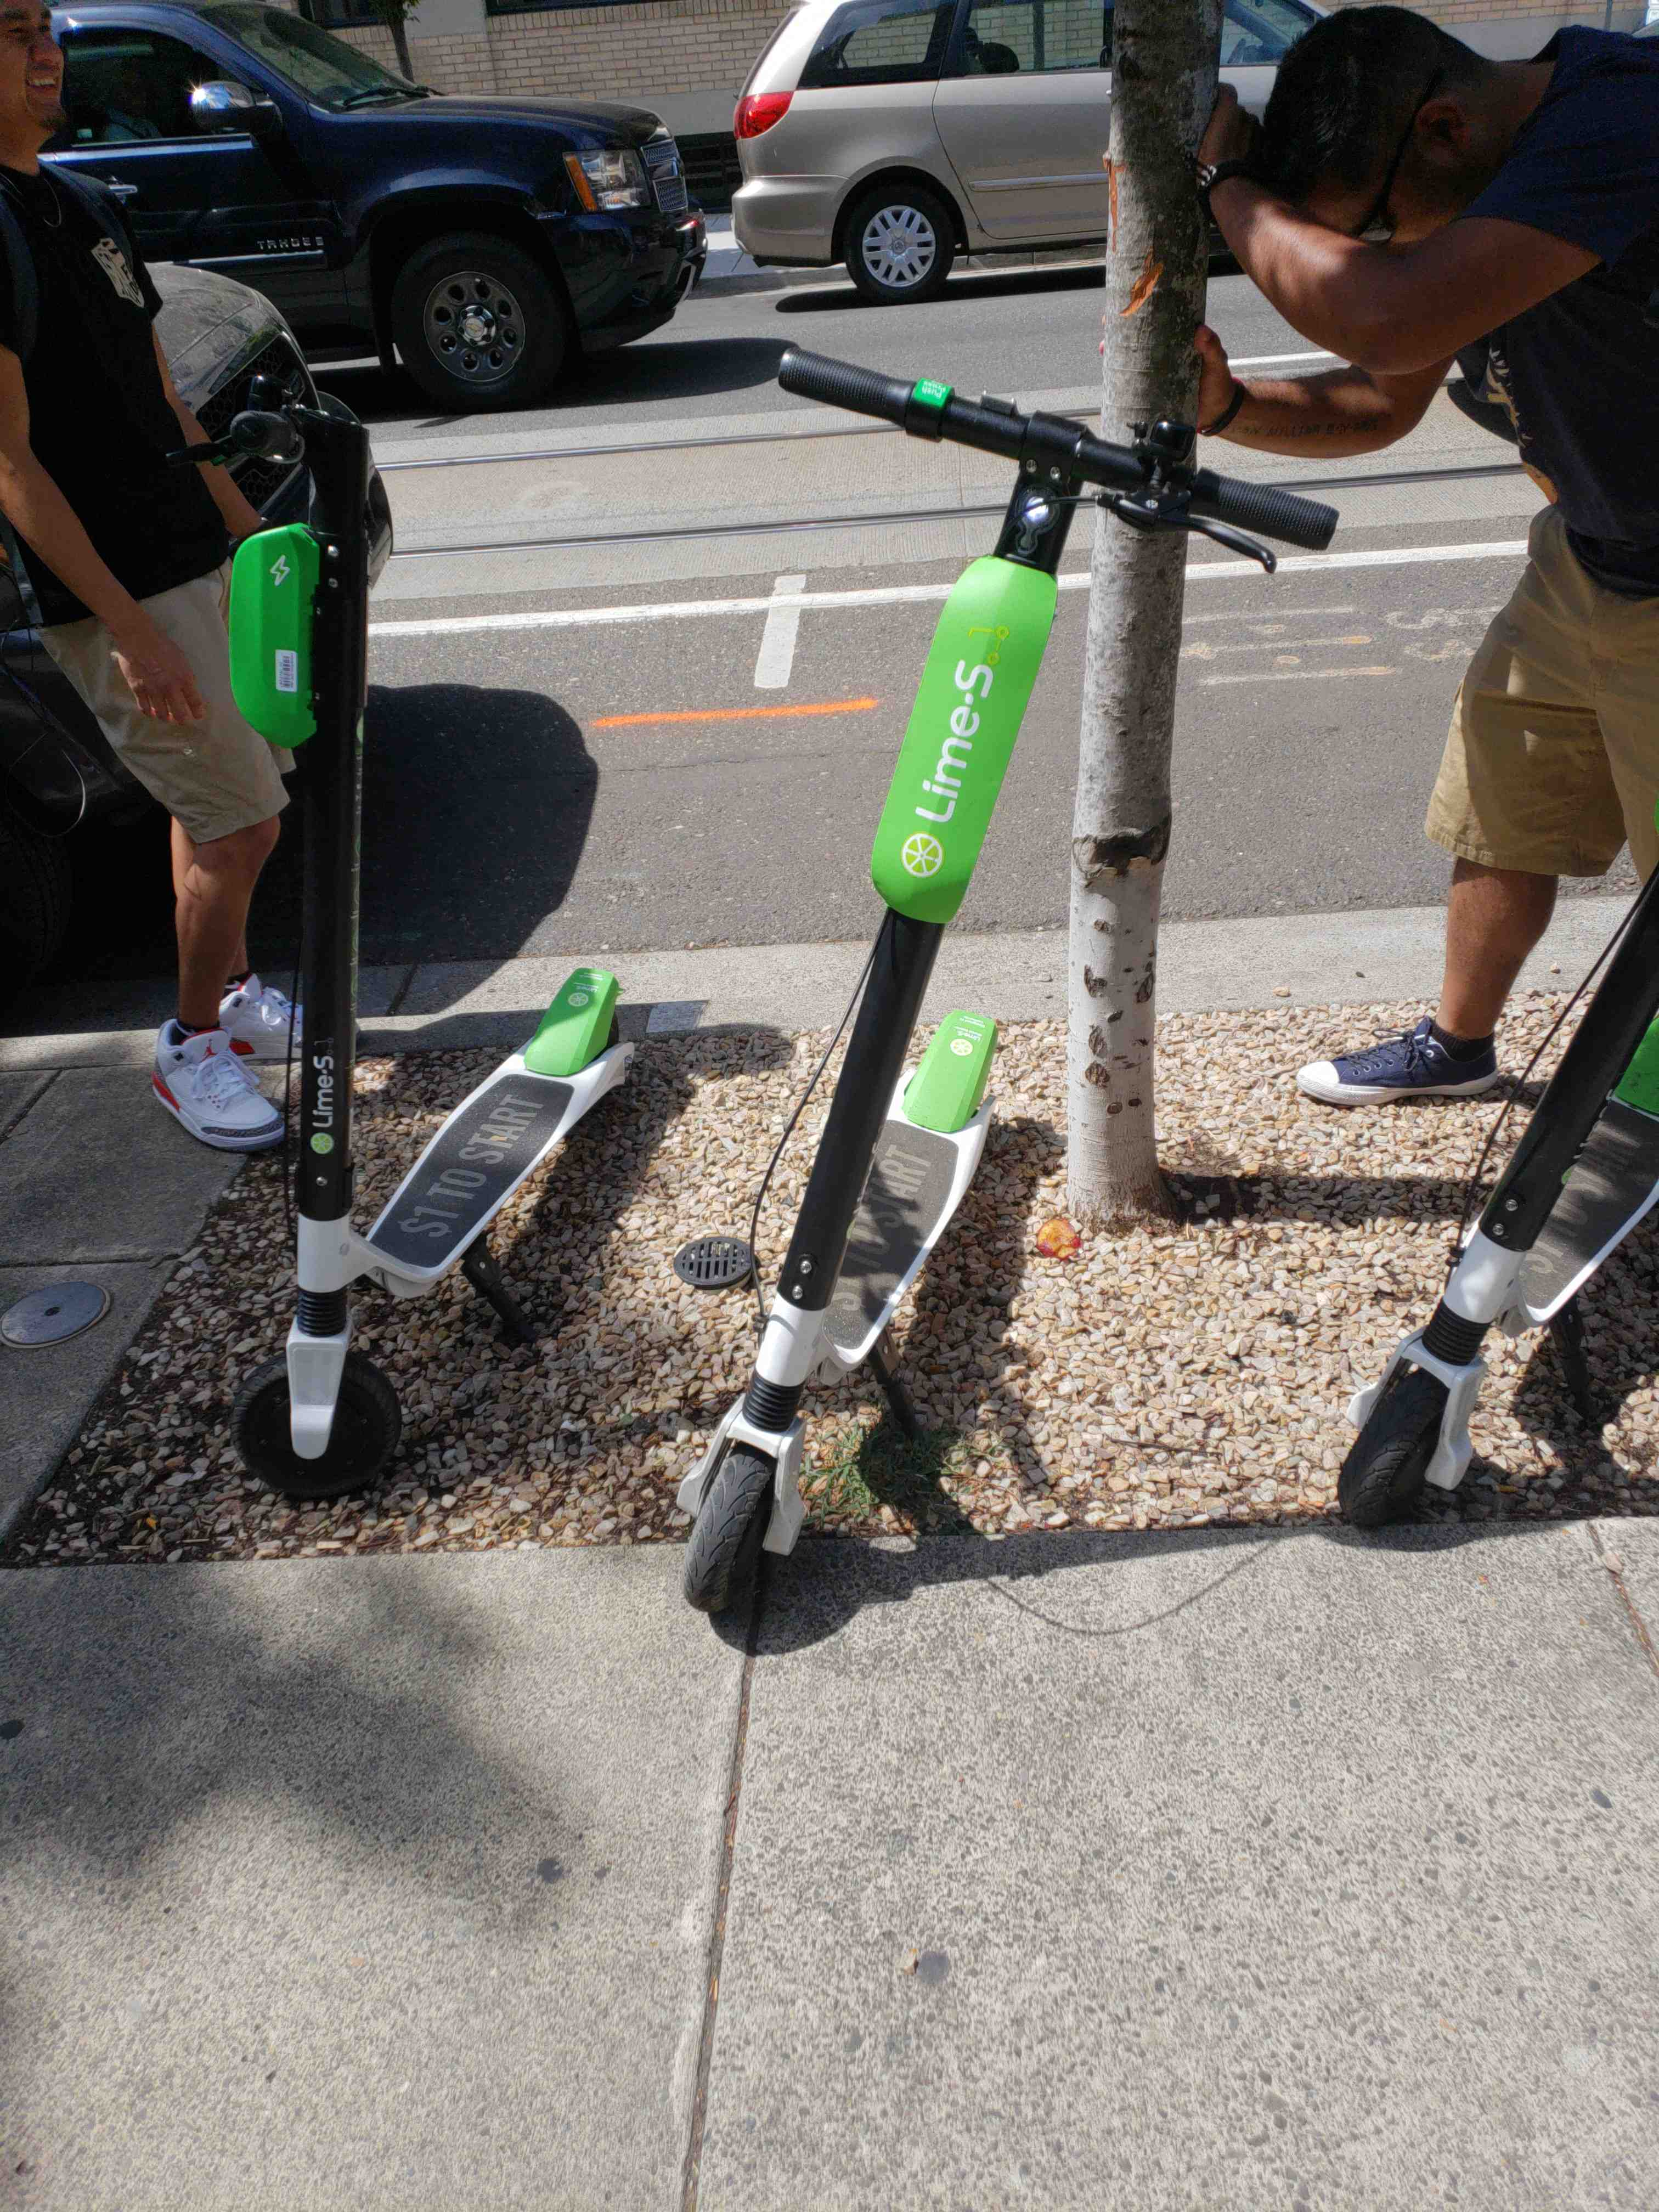scooter: (636, 333, 1358, 1717), (115, 296, 647, 1522)
